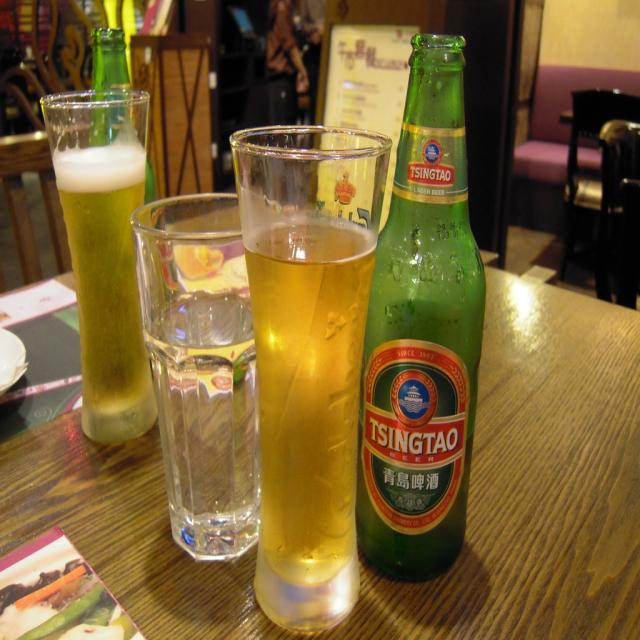tsingtao: (363, 338, 472, 536), (403, 137, 457, 192)
